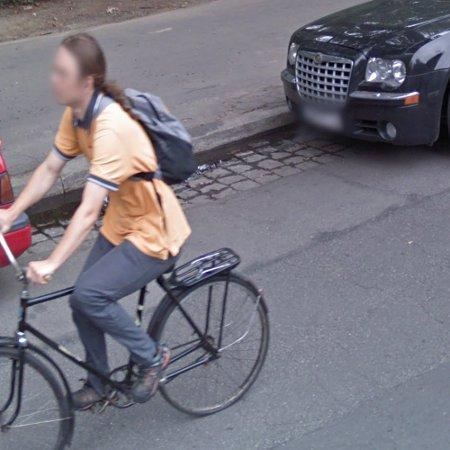bicycles: (169, 248, 241, 288)
